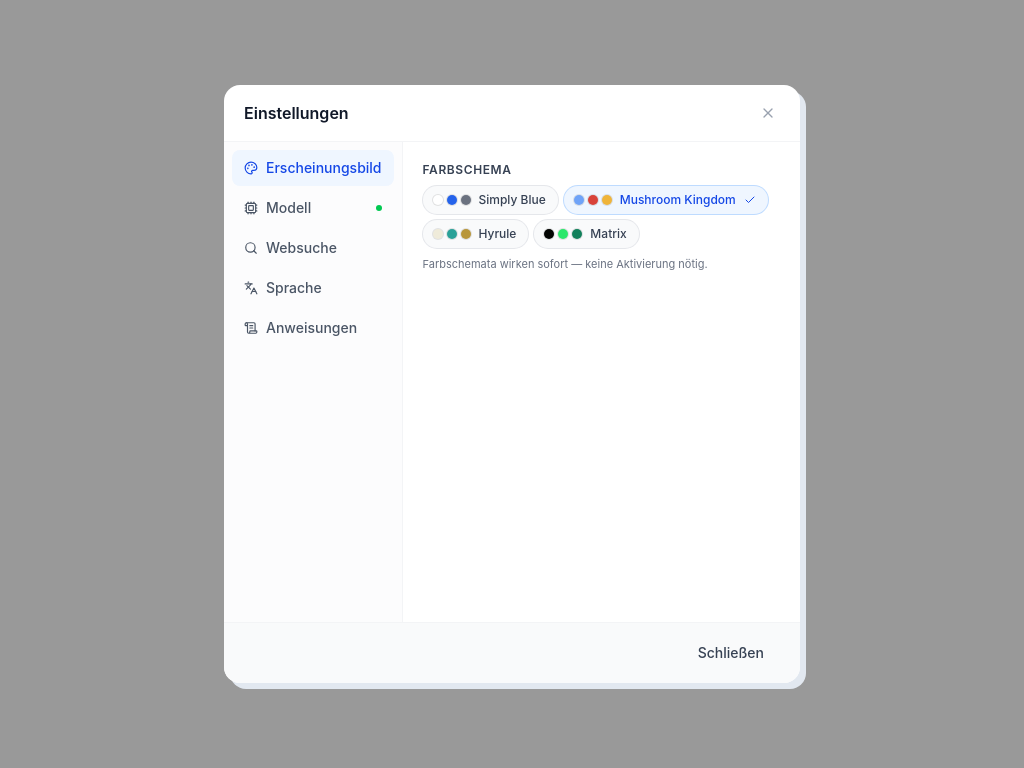
Test case: SettingsModal – German App language › renders the modal chrome in German when the App language is German
Expected: the text "Farbschema" is shown, [422,162,512,177]
Expected: the heading "Einstellungen" is shown, [244,101,349,125]
Note: Die Sprach-Optionen bleiben immer in ihrer eigenen Sprache.
Click the button "Sprache": (313, 288) [232,270,394,306]
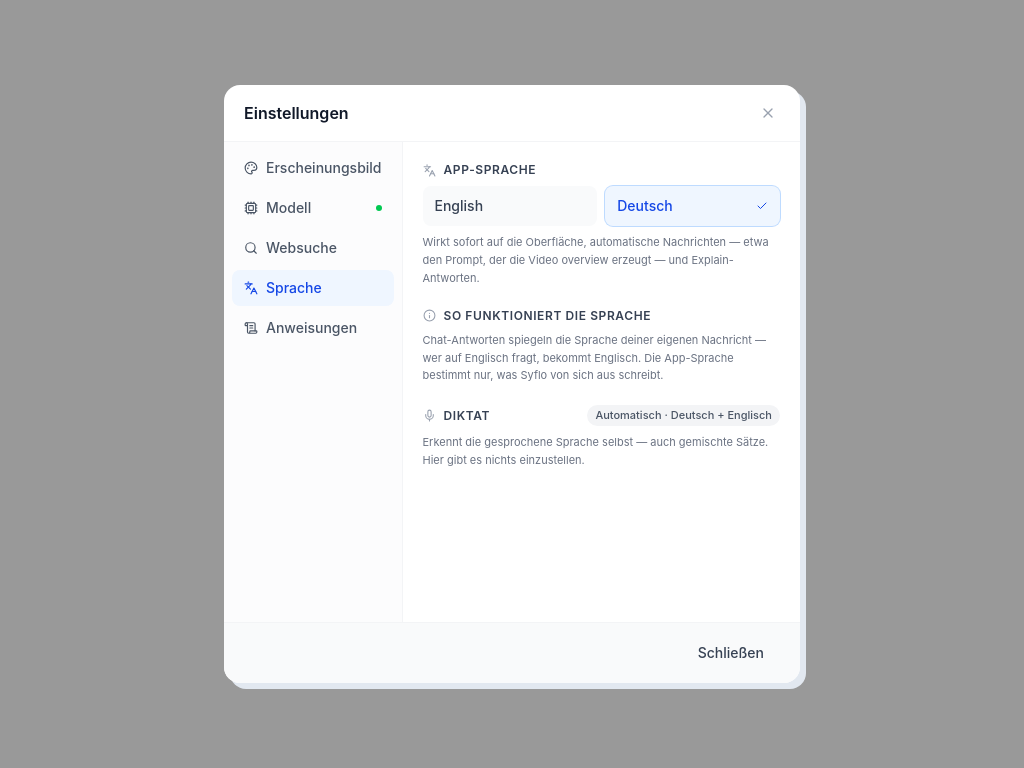
Now the button "English" is shown, box [422,186,597,226]
Now the button "Deutsch" is shown, box [605,186,780,226]
